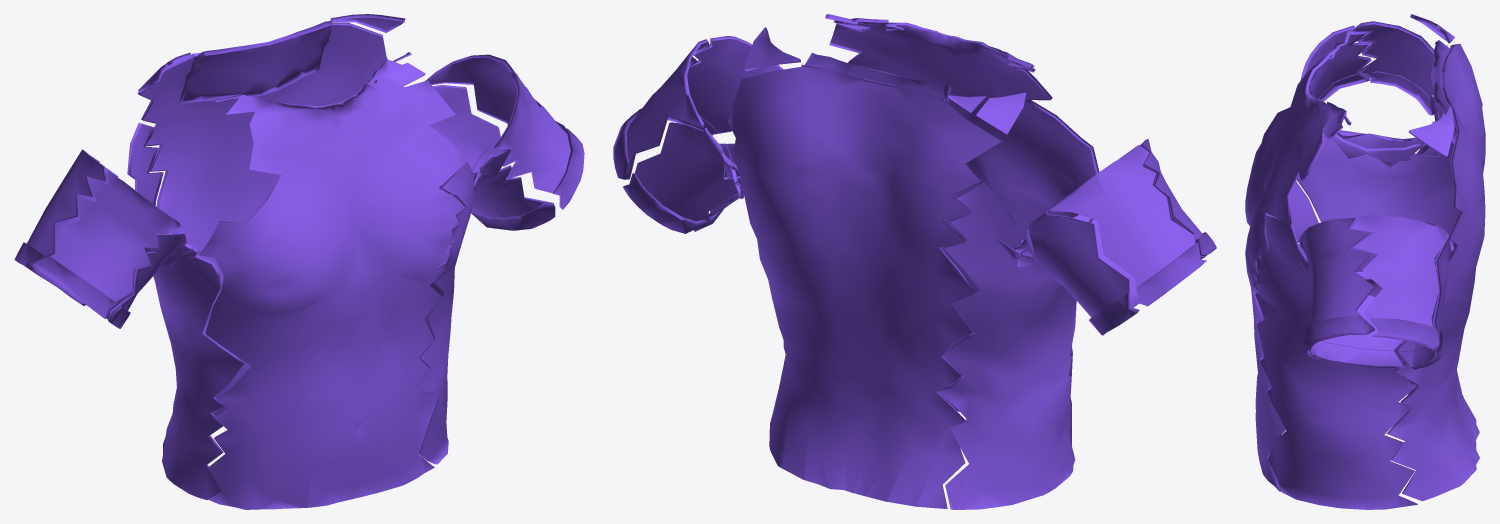
File: tshirt-violet-v1.glb
The picture shows the model from 3 angles, left to right: view 1: azimuth 30°, elevation 25°; view 2: azimuth 150°, elevation 25°; view 3: azimuth 270°, elevation 25°; orthographic projection. The views are drawn at different scales.
Visible parts, largest first — view 1: tshirt_body, tshirt_sleeve_R, tshirt_sleeve_L, tshirt_collar, tshirt_cuff_L, tshirt_cuff_R; view 2: tshirt_body, tshirt_sleeve_R, tshirt_sleeve_L, tshirt_cuff_R, tshirt_cuff_L, tshirt_collar; view 3: tshirt_body, tshirt_sleeve_L, tshirt_sleeve_R, tshirt_cuff_L, tshirt_collar, tshirt_cuff_R.
Part boxes in pixels (<box>): tshirt_body: <box>127,14,474,509</box>; tshirt_sleeve_R: <box>22,149,199,322</box>; tshirt_sleeve_L: <box>425,54,570,217</box>; tshirt_collar: <box>180,20,332,103</box>; tshirt_cuff_L: <box>471,121,584,230</box>; tshirt_cuff_R: <box>14,242,130,328</box>; tshirt_body: <box>728,14,1099,509</box>; tshirt_sleeve_R: <box>1014,139,1213,317</box>; tshirt_sleeve_L: <box>626,36,783,221</box>; tshirt_cuff_R: <box>1089,232,1216,335</box>; tshirt_cuff_L: <box>613,108,731,233</box>; tshirt_collar: <box>802,52,950,103</box>; tshirt_body: <box>1245,14,1485,509</box>; tshirt_sleeve_L: <box>1299,215,1450,368</box>; tshirt_sleeve_R: <box>1300,21,1444,167</box>; tshirt_cuff_L: <box>1304,315,1443,369</box>; tshirt_collar: <box>1430,40,1456,144</box>; tshirt_cuff_R: <box>1318,71,1439,118</box>.
Size of the model in its own units: 0.7132 by 0.4922 by 0.2802.
